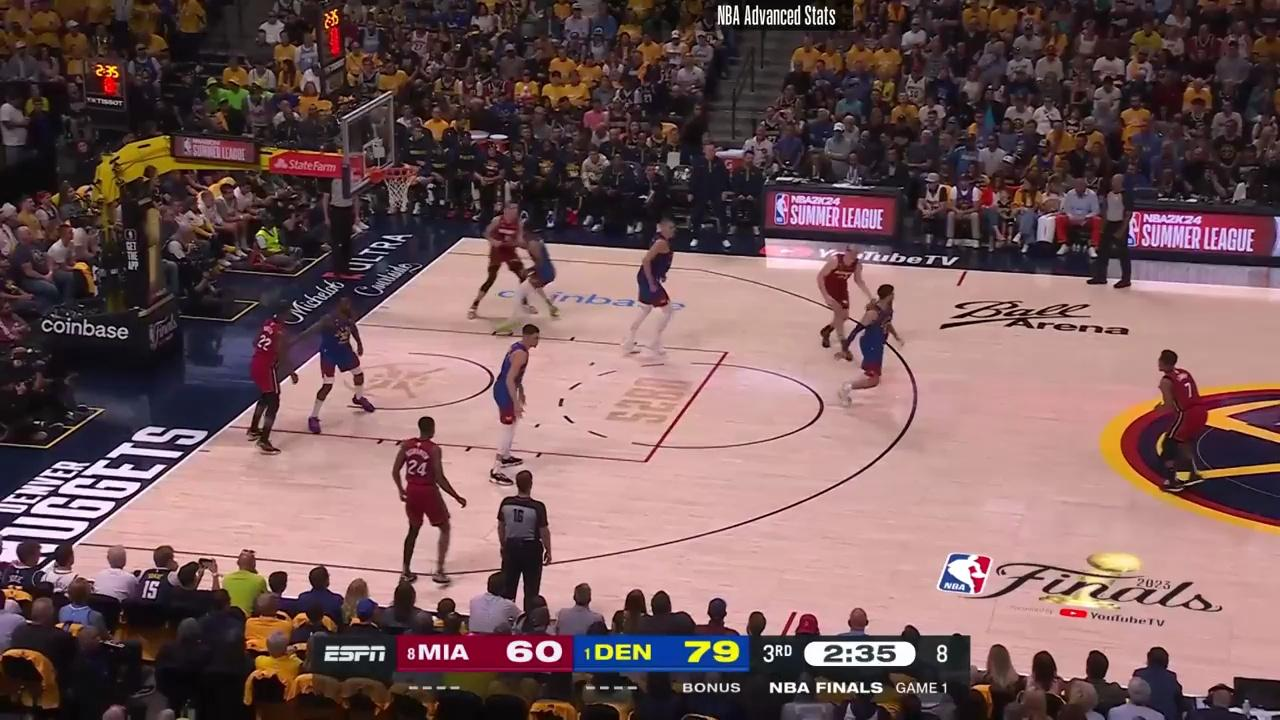Backboard: (348, 95, 393, 199)
Basket: (381, 166, 418, 208)
Person: (388, 413, 470, 596), (1143, 349, 1212, 496), (306, 296, 380, 429), (619, 214, 684, 362), (484, 320, 543, 482), (471, 197, 536, 318), (243, 310, 298, 452), (840, 286, 903, 406), (814, 240, 868, 356), (503, 225, 564, 324)
Referee: (491, 468, 561, 617), (1090, 173, 1137, 286), (322, 179, 357, 271)
Shot Clock: (312, 0, 351, 85), (83, 63, 124, 120)
